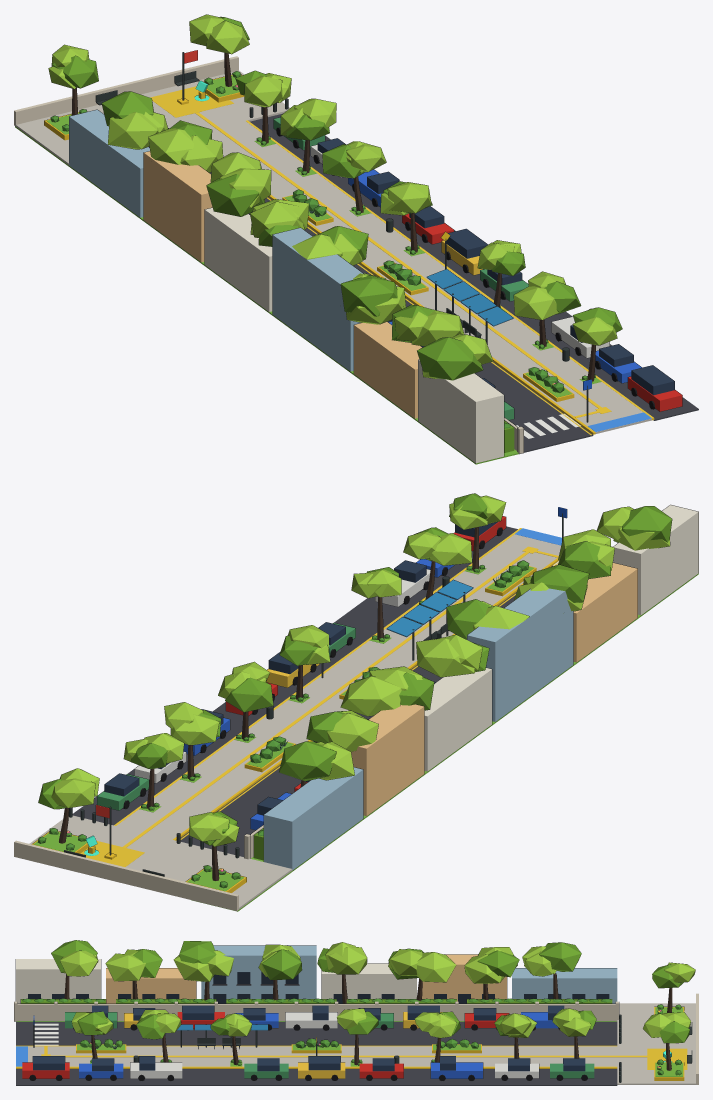
The model's file is Camellon_Restaurado.fbx.
3 renders of one model, top to bottom at view 1: azimuth 30°, elevation 25°; view 2: azimuth 150°, elevation 25°; view 3: azimuth 270°, elevation 25°, orthographic. The views are drawn at different scales.
Visible parts, largest first — view 1: Restaurado_Estructuras, Restaurado_Decoracion, Restaurado_Suelo; view 2: Restaurado_Estructuras, Restaurado_Decoracion, Restaurado_Suelo; view 3: Restaurado_Estructuras, Restaurado_Suelo, Restaurado_Decoracion.
Boxes of the visible parts, <box> form: Restaurado_Estructuras: <box>69,98,682,463</box>; Restaurado_Decoracion: <box>44,14,622,452</box>; Restaurado_Suelo: <box>14,56,698,464</box>; Restaurado_Estructuras: <box>69,504,698,870</box>; Restaurado_Decoracion: <box>32,493,672,892</box>; Restaurado_Suelo: <box>14,526,698,911</box>; Restaurado_Estructuras: <box>14,945,621,1082</box>; Restaurado_Suelo: <box>16,993,698,1085</box>; Restaurado_Decoracion: <box>20,940,695,1080</box>.
Size of the model in its own units: 2005 by 792 by 6834.
2 materials, 1 textured.
